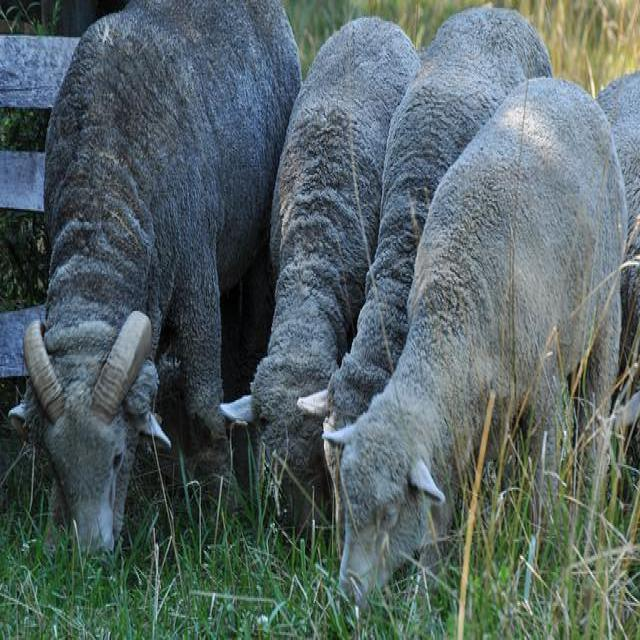Sheep: (321, 73, 629, 635), (3, 0, 303, 575), (293, 5, 555, 572), (220, 18, 416, 536), (595, 66, 639, 348)
